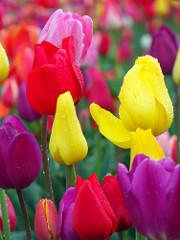tulip: (88, 56, 172, 132), (116, 154, 180, 240), (25, 39, 84, 113), (0, 115, 43, 191), (72, 175, 118, 240)
